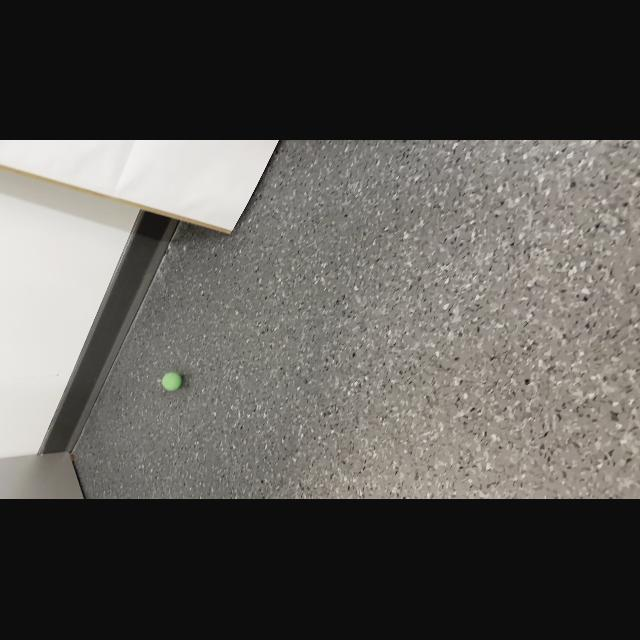objects: (160, 371, 184, 394)
